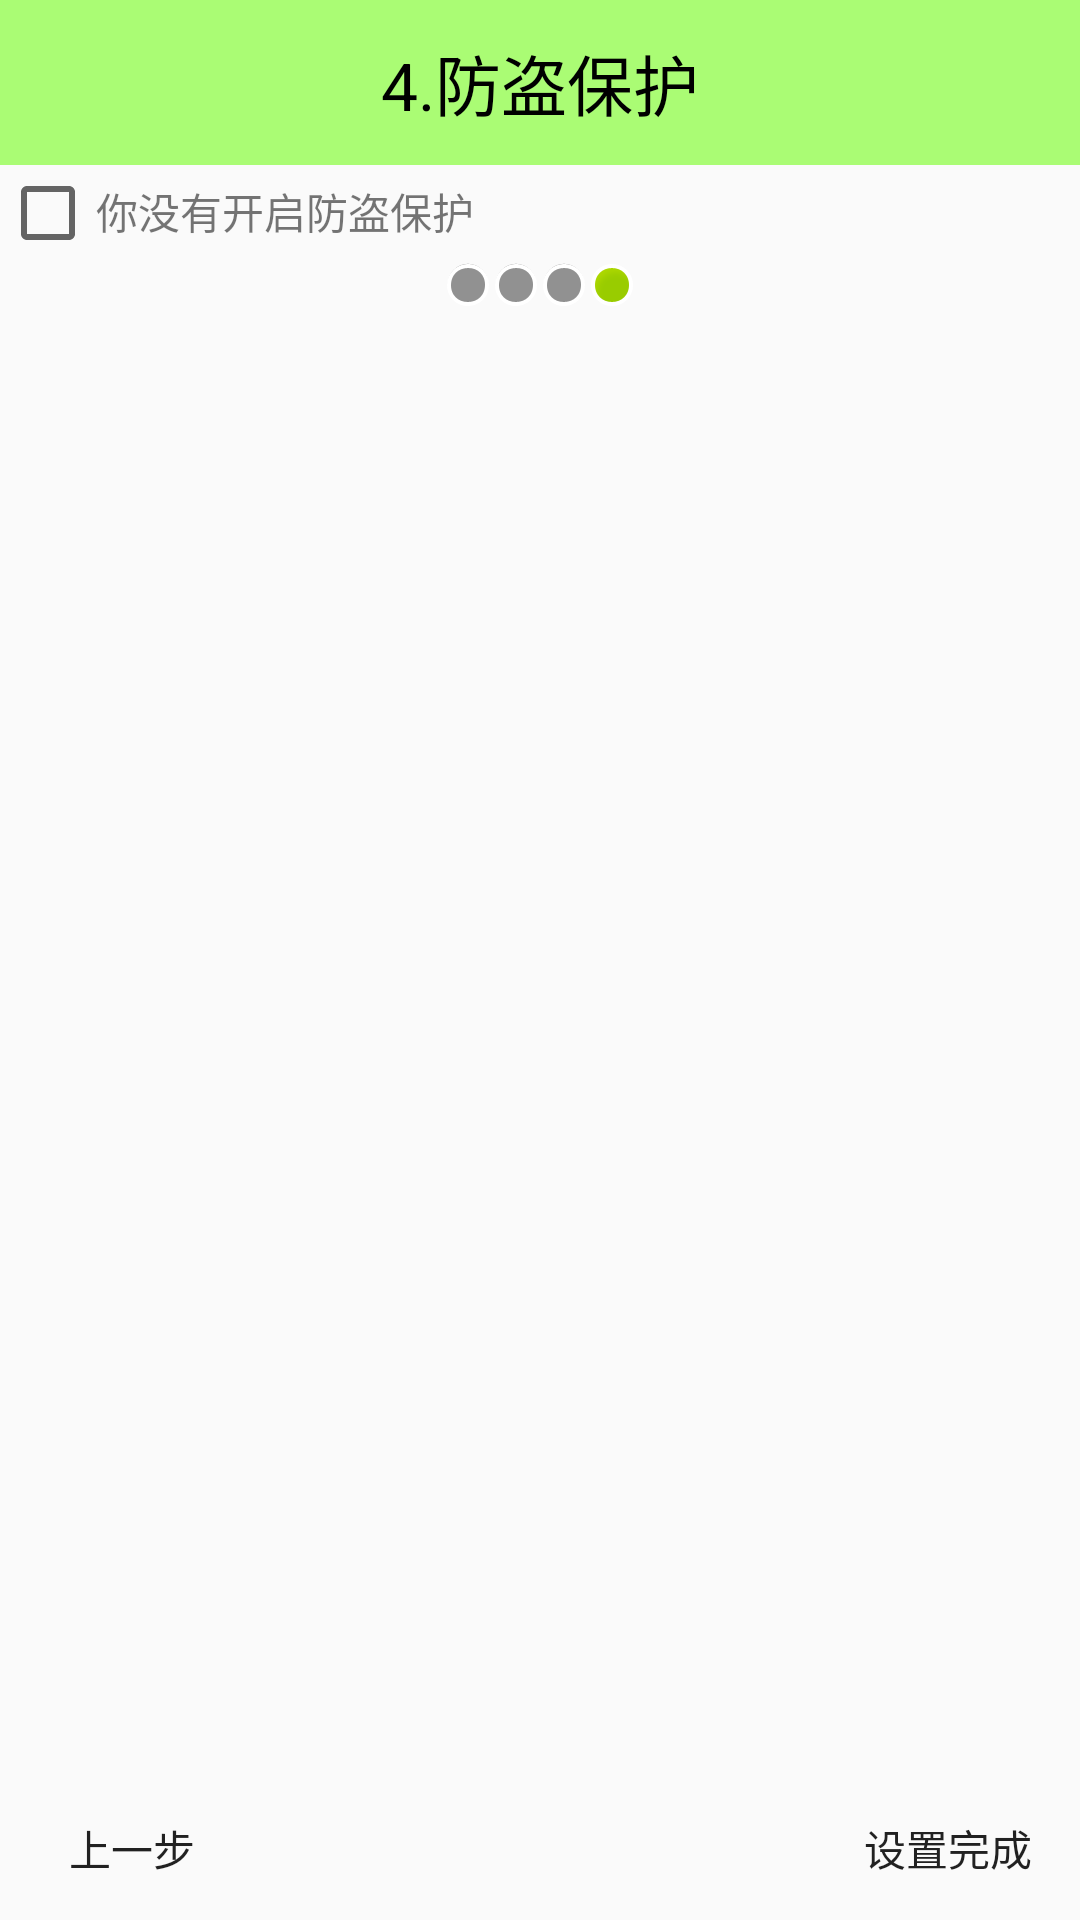

Point at icon controls on the screen. Image size 1080 x 1920, points as point (x, y).
presence invisible: point (468, 283), point (516, 283), point (564, 283)
presence online: point (612, 285)
